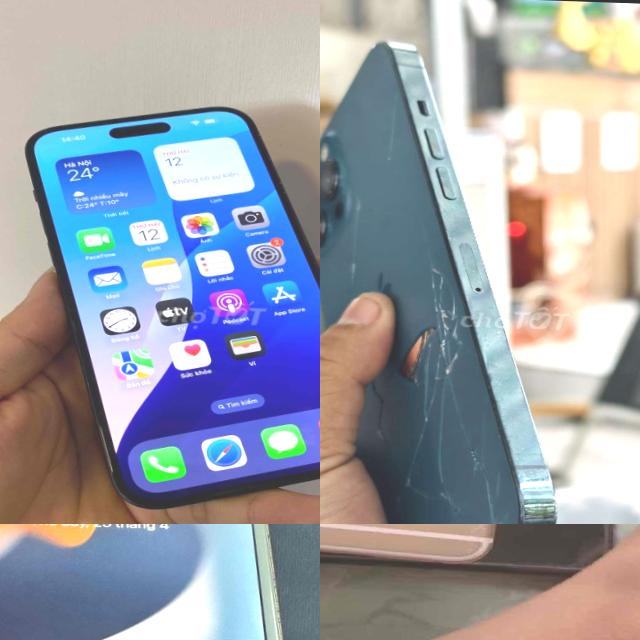physical_damage: (320, 82, 519, 524)
scratch: (248, 524, 298, 640), (506, 457, 568, 524), (454, 524, 535, 574)
